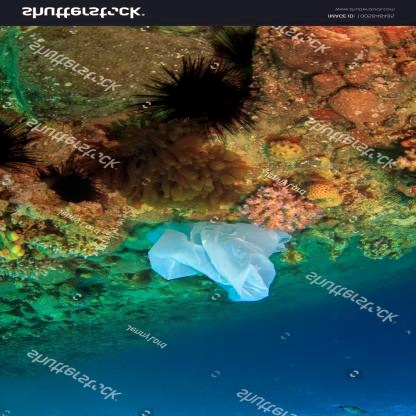pbag: (137, 217, 293, 310)
